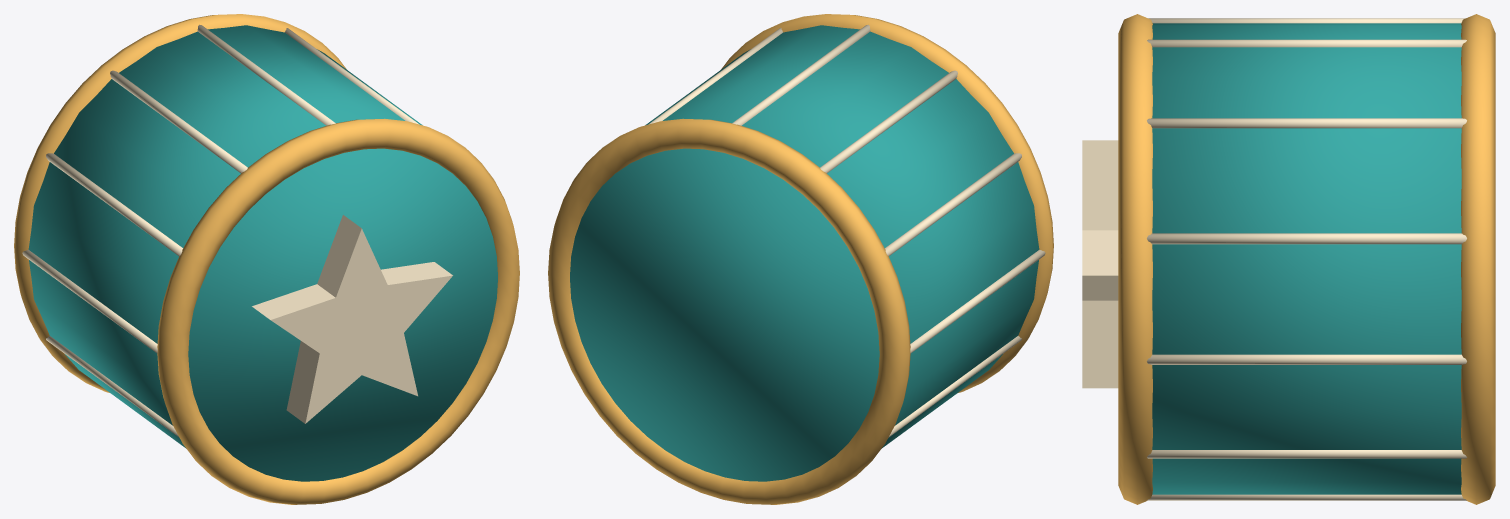
File: barrel.glb
The picture shows the model from 3 angles, left to right: view 1: azimuth 30°, elevation 25°; view 2: azimuth 150°, elevation 25°; view 3: azimuth 270°, elevation 25°; orthographic projection. The views are drawn at different scales.
Visible parts, largest first — view 1: Barrel, Brass hoop, Barrel star, Brass hoop.001, Stave.005, Stave.004, Stave.006, Stave.003, Stave.007, Stave.002; view 2: Barrel, Brass hoop.001, Brass hoop, Stave.005, Stave.004, Stave.006, Stave.003, Stave.007, Stave.002; view 3: Barrel, Brass hoop.001, Brass hoop, Barrel star, Stave.001, Stave, Stave.002, Stave.011, Stave.003, Stave.010, Stave.004.
Boxes of the visible parts, x1=… form: Barrel: x1=28, y1=25, x2=497, y2=481; Brass hoop: x1=157, y1=118, x2=519, y2=504; Barrel star: x1=252, y1=215, x2=452, y2=423; Brass hoop.001: x1=14, y1=14, x2=346, y2=392; Stave.005: x1=46, y1=153, x2=182, y2=256; Stave.004: x1=110, y1=70, x2=247, y2=173; Stave.006: x1=22, y1=250, x2=157, y2=353; Stave.003: x1=197, y1=24, x2=335, y2=125; Stave.007: x1=46, y1=336, x2=179, y2=437; Stave.002: x1=285, y1=28, x2=419, y2=124; Barrel: x1=570, y1=25, x2=1039, y2=481; Brass hoop.001: x1=548, y1=118, x2=910, y2=504; Brass hoop: x1=721, y1=14, x2=1053, y2=392; Stave.005: x1=885, y1=153, x2=1021, y2=256; Stave.004: x1=820, y1=70, x2=957, y2=173; Stave.006: x1=910, y1=250, x2=1045, y2=353; Stave.003: x1=732, y1=24, x2=870, y2=125; Stave.007: x1=888, y1=336, x2=1021, y2=437; Stave.002: x1=648, y1=28, x2=782, y2=124; Barrel: x1=1152, y1=23, x2=1461, y2=494; Brass hoop.001: x1=1461, y1=14, x2=1495, y2=504; Brass hoop: x1=1118, y1=14, x2=1152, y2=504; Barrel star: x1=1082, y1=140, x2=1118, y2=388; Stave.001: x1=1147, y1=233, x2=1466, y2=244; Stave: x1=1147, y1=354, x2=1466, y2=364; Stave.002: x1=1147, y1=118, x2=1466, y2=128; Stave.011: x1=1147, y1=450, x2=1466, y2=458; Stave.003: x1=1147, y1=39, x2=1466, y2=47; Stave.010: x1=1147, y1=494, x2=1466, y2=500; Stave.004: x1=1148, y1=18, x2=1465, y2=23.
Size of the model in its own units: 1.16 by 1.16 by 0.975.
